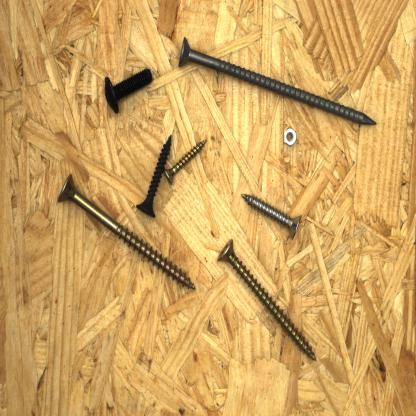screw: (173, 27, 376, 132), (54, 171, 198, 294), (212, 227, 319, 368), (128, 126, 179, 230), (239, 181, 309, 252), (96, 60, 156, 122), (163, 124, 210, 186)
